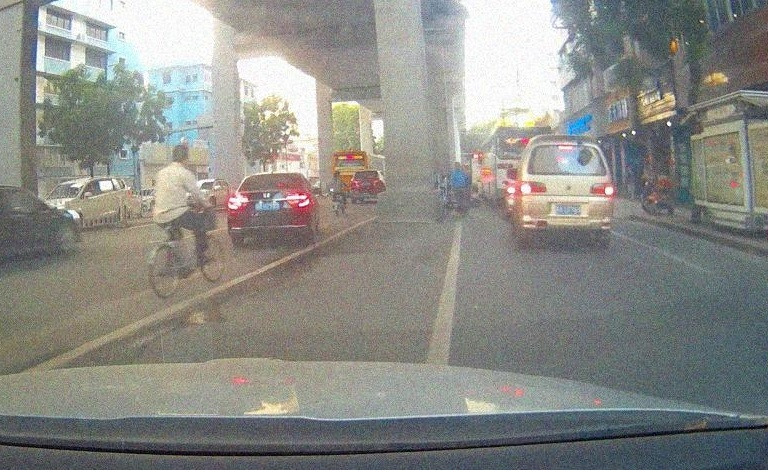L_light: (519, 181, 546, 193), (228, 197, 249, 210)
R_light: (286, 195, 310, 207), (590, 183, 614, 194)
T_light: (558, 145, 573, 149), (265, 174, 278, 176)
day-brake: (518, 134, 615, 243)
day-left: (228, 173, 310, 245)
